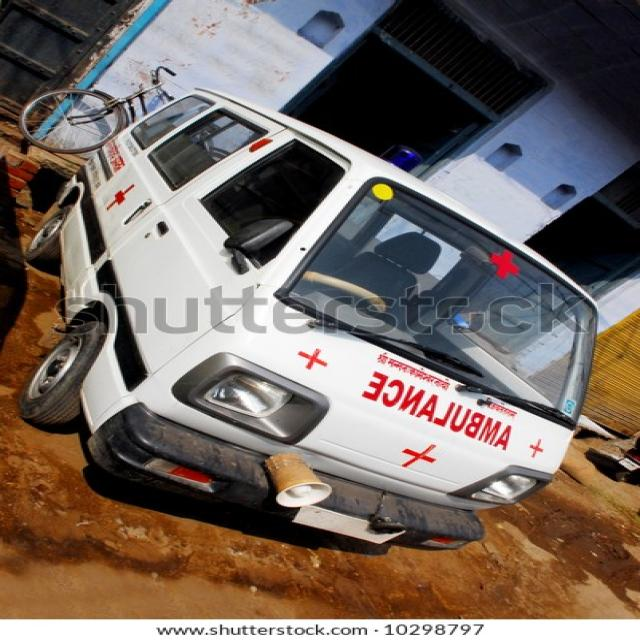ambulance: (49, 87, 595, 558)
